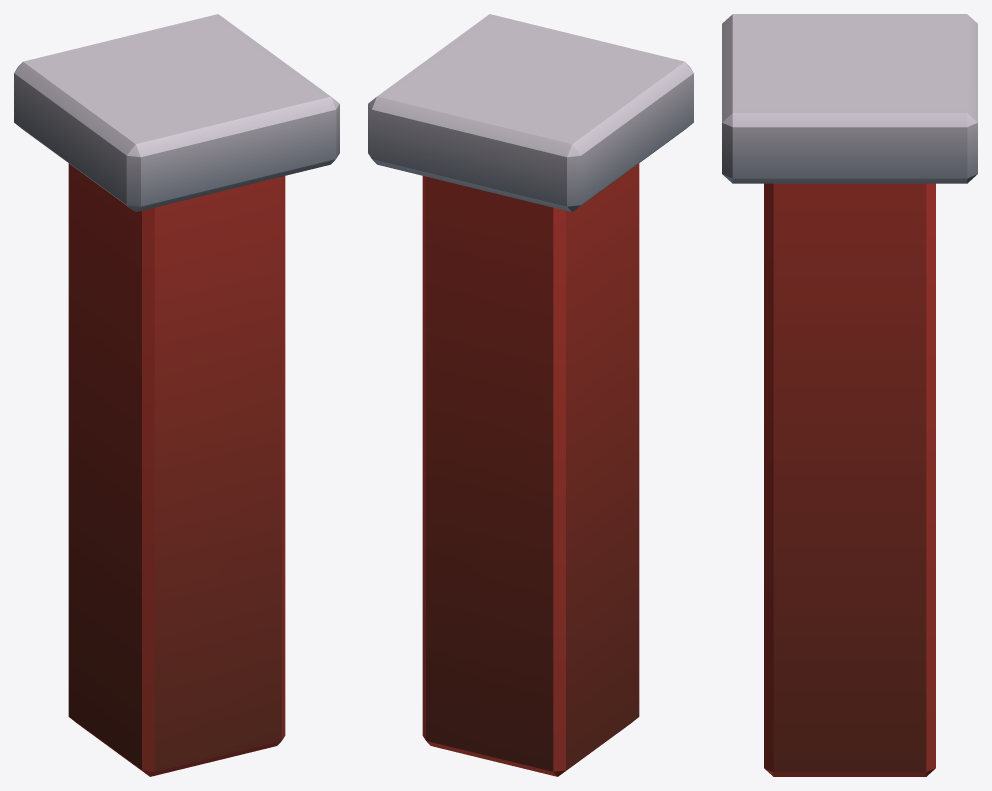
The model's file is lpb_fence_6.fbx.
The picture shows the model from 3 angles, left to right: view 1: azimuth 30°, elevation 25°; view 2: azimuth 150°, elevation 25°; view 3: azimuth 270°, elevation 25°; orthographic projection. The views are drawn at different scales.
Parts seen in each view (by area): view 1: fence6; view 2: fence6; view 3: fence6.
Boxes of the visible parts, x1,y1,x2,y2 form: fence6: (14, 14, 339, 776); fence6: (368, 14, 693, 776); fence6: (722, 14, 977, 776).
Bounding box in the file's own units: 113 × 333 × 113.
